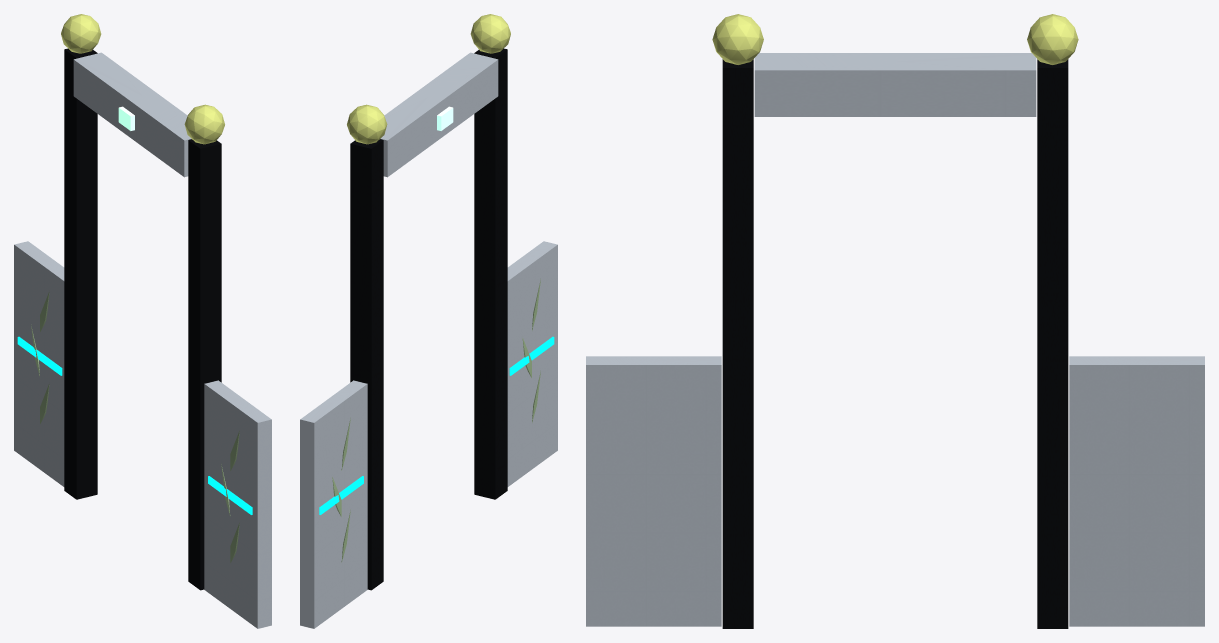
File: tt_bridges_t2_gate.glb
The picture shows the model from 3 angles, left to right: view 1: azimuth 30°, elevation 25°; view 2: azimuth 150°, elevation 25°; view 3: azimuth 270°, elevation 25°; orthographic projection. The views are drawn at different scales.
Parts seen in each view (by area): view 1: Gate_Posts, Gate_FlarePanel, Gate_Header, Gate_BallFinial, Gate_LeafCrests, Gate_FlareInlay; view 2: Gate_Posts, Gate_FlarePanel, Gate_Header, Gate_BallFinial, Gate_LeafCrests, Gate_FlareInlay; view 3: Gate_FlarePanel, Gate_Posts, Gate_Header, Gate_BallFinial.
Boxes of the visible parts, bbox=[...] form: Gate_Posts: bbox=[64, 48, 221, 590]; Gate_FlarePanel: bbox=[14, 241, 271, 628]; Gate_Header: bbox=[73, 52, 191, 177]; Gate_BallFinial: bbox=[61, 14, 224, 144]; Gate_LeafCrests: bbox=[31, 292, 239, 562]; Gate_FlareInlay: bbox=[17, 336, 252, 514]; Gate_Posts: bbox=[350, 48, 507, 590]; Gate_FlarePanel: bbox=[300, 241, 557, 628]; Gate_Header: bbox=[380, 52, 498, 177]; Gate_BallFinial: bbox=[347, 14, 510, 144]; Gate_LeafCrests: bbox=[332, 279, 540, 562]; Gate_FlareInlay: bbox=[319, 336, 554, 514]; Gate_FlarePanel: bbox=[586, 356, 1204, 626]; Gate_Posts: bbox=[722, 59, 1068, 628]; Gate_Header: bbox=[754, 53, 1036, 116]; Gate_BallFinial: bbox=[712, 14, 1078, 64].
Size of what is drawn, in the model's own units: 0.204 by 2.59 by 2.4.
6 materials, 2 textured.
